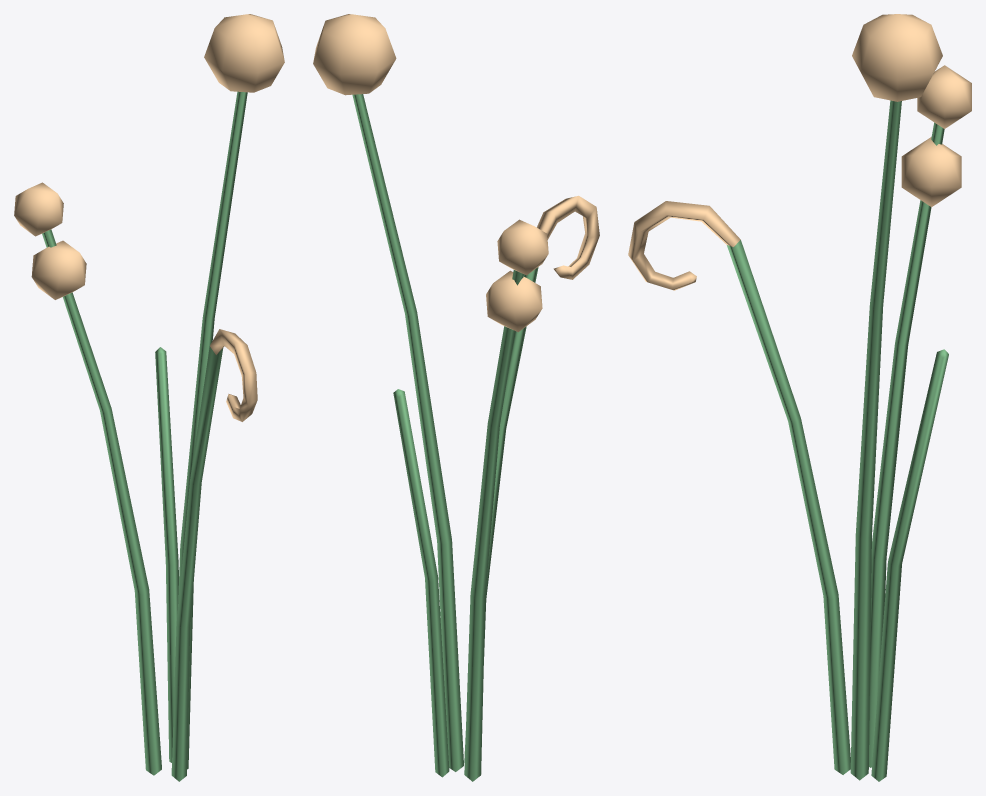
File: reed.fbx
The picture shows the model from 3 angles, left to right: view 1: azimuth 30°, elevation 25°; view 2: azimuth 150°, elevation 25°; view 3: azimuth 270°, elevation 25°; orthographic projection. The views are drawn at different scales.
Visible parts, largest first — view 1: reed; view 2: reed; view 3: reed.
Part boxes in pixels (x1=…): reed: x1=14, y1=14, x2=284, y2=781; reed: x1=313, y1=14, x2=599, y2=781; reed: x1=628, y1=14, x2=971, y2=781.
Bounding box in the file's own units: 0.5756 × 1.61 × 0.6222.
